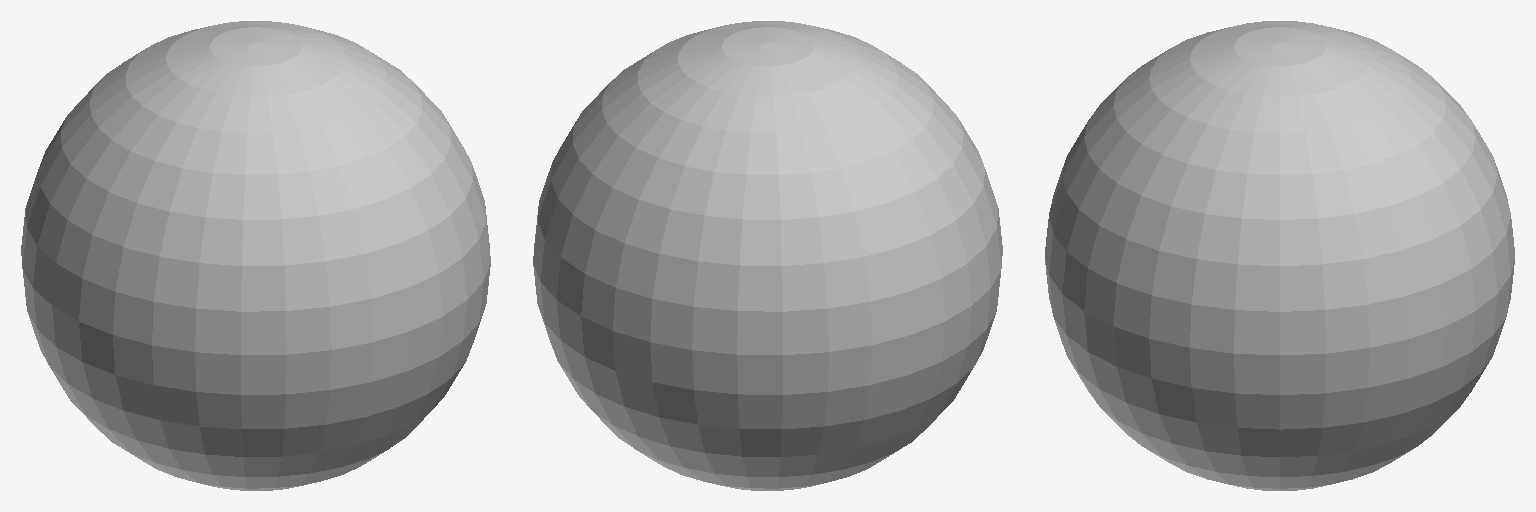
The model's file is neptuno.obj.
3 renders of one model, left to right at view 1: azimuth 30°, elevation 25°; view 2: azimuth 150°, elevation 25°; view 3: azimuth 270°, elevation 25°, orthographic.
Parts seen in each view (by area): view 1: Sphere.009_Material.011_0; view 2: Sphere.009_Material.011_0; view 3: Sphere.009_Material.011_0.
Boxes of the visible parts, <box> form: Sphere.009_Material.011_0: <box>21,21,490,490</box>; Sphere.009_Material.011_0: <box>533,21,1002,490</box>; Sphere.009_Material.011_0: <box>1045,21,1514,490</box>.
Bounding box in the file's own units: 2.1 × 2.1 × 2.1.